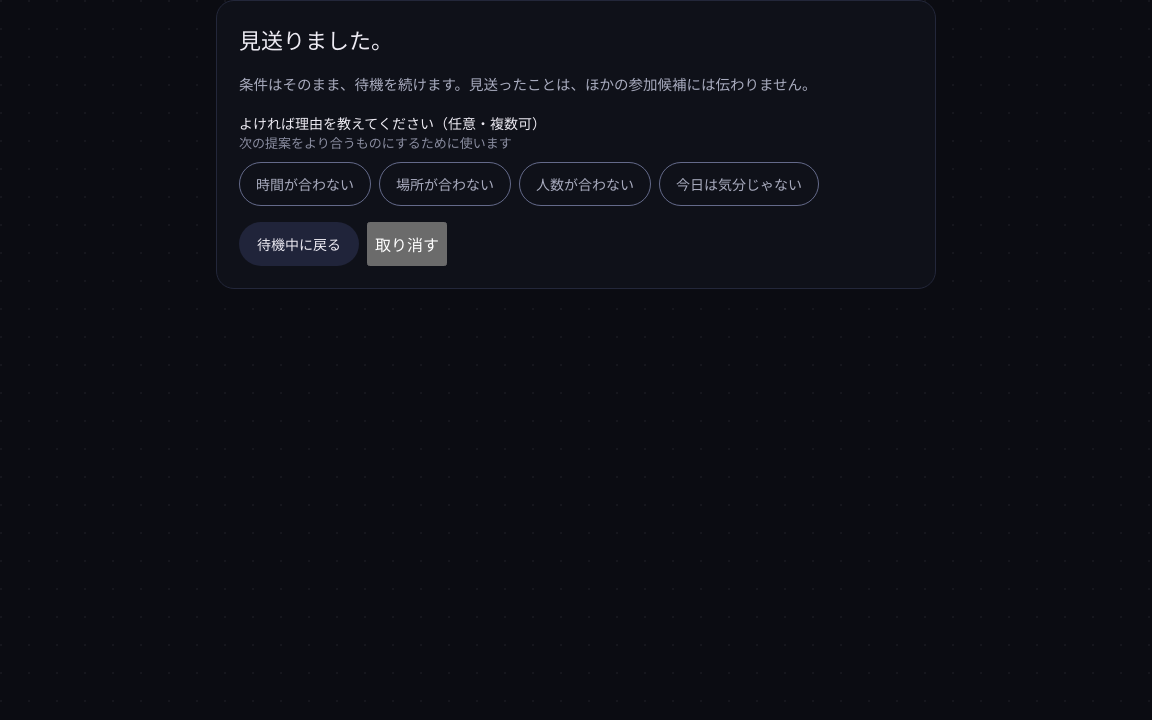
Test: 04 提案姿(全面再構成・プロトタイプ04) › undo不可(409)はトーストで伝える
Click the button "取り消す" at (407, 244), box [367,222,447,266]
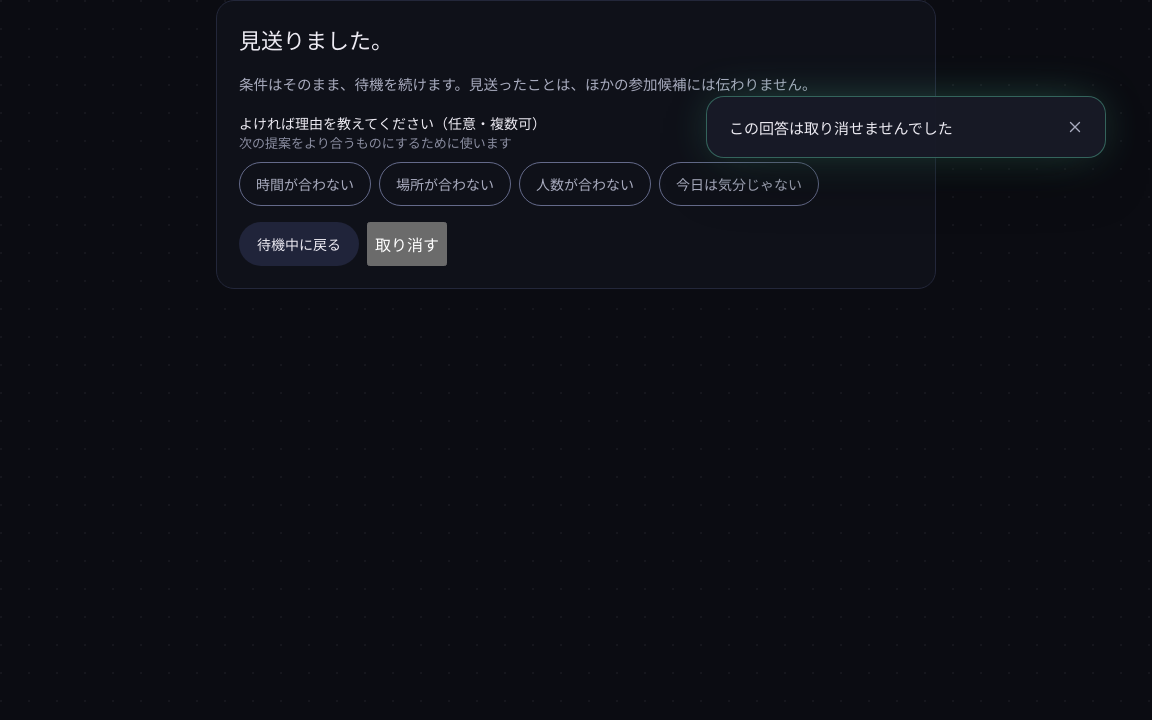
Check: the text with class "toast-msg--plain" reads "この回答は取り消せませんでした", box [729,116,953,138]
